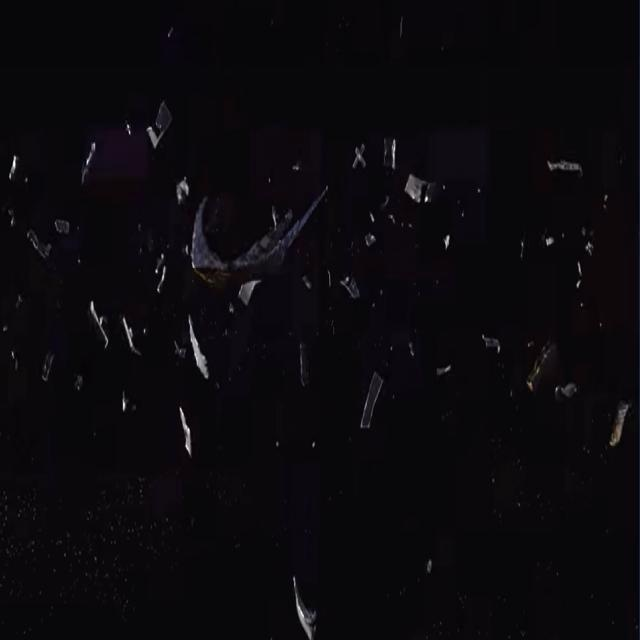large_debris: (183, 159, 333, 323), (518, 329, 566, 404), (361, 355, 397, 449), (287, 567, 325, 640), (144, 92, 175, 156), (184, 308, 210, 384), (23, 221, 57, 275), (604, 395, 633, 458), (87, 291, 111, 361), (402, 167, 438, 212), (119, 307, 143, 363), (77, 136, 100, 194), (545, 151, 587, 182), (478, 322, 506, 367), (177, 402, 197, 462), (337, 265, 365, 307), (380, 128, 404, 172), (34, 347, 54, 396), (296, 339, 313, 391), (350, 136, 368, 173), (432, 354, 453, 385), (404, 330, 418, 364)
